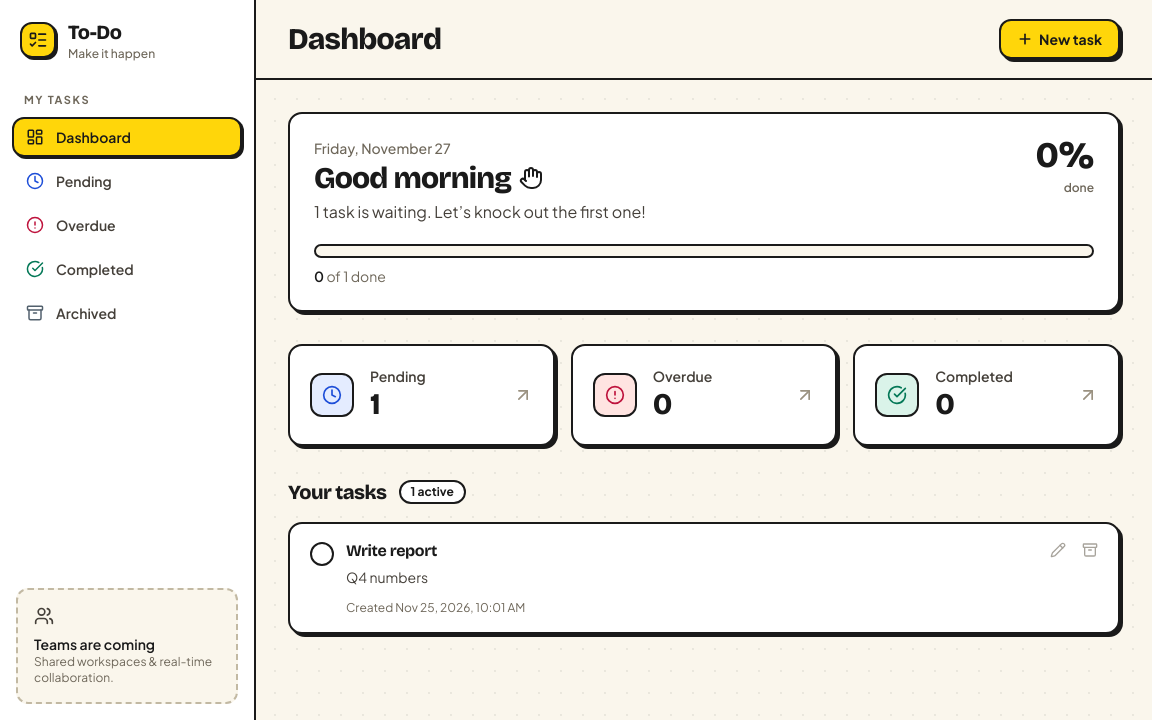
Test: editing a task › opens the editor pre-filled with the current values
Expected: the heading "Write report" is shown, [346,540,437,560]
What coordinates should you click on to do the following:
click the button named "Edit \"Write report\""
I would click on:
 (1058, 550)
Its box is [1042,534,1074,566].
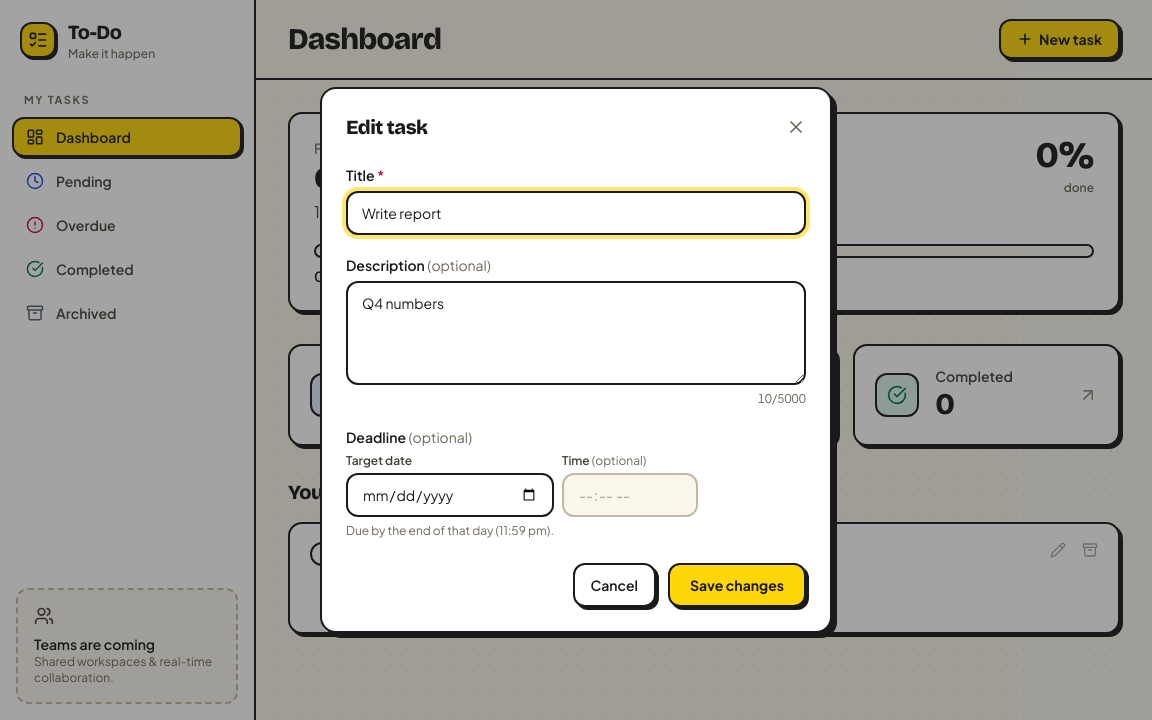
Expected: the field labelled "Title *" holds "Write report", [346,191,806,235]
Expected: the text box labelled "Description (optional)" holds "Q4 numbers", [346,281,806,385]
